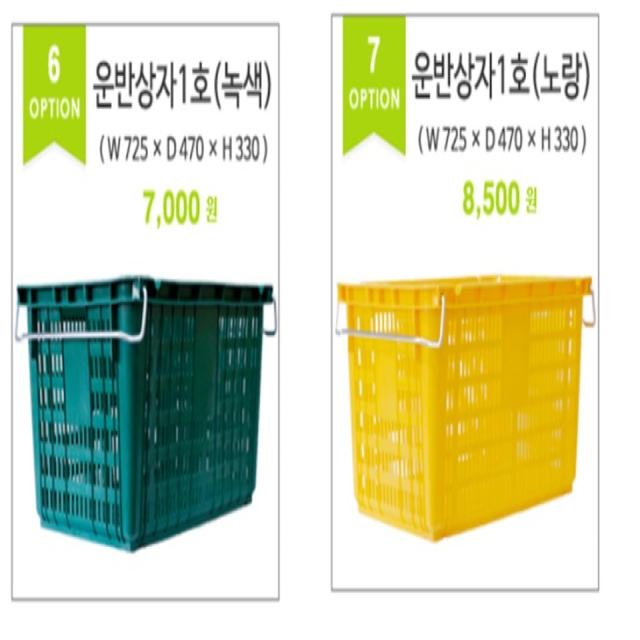basket: (0, 266, 275, 561), (338, 273, 598, 542)
